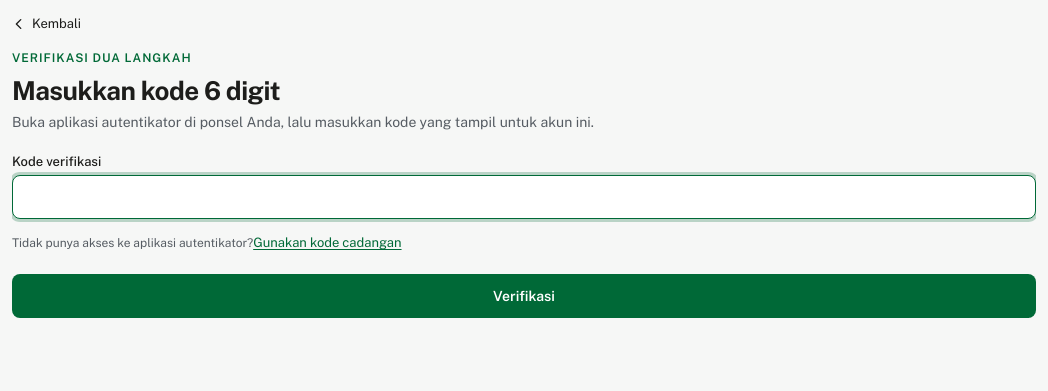
Test: LangkahKodeMfa › kode salah: pesan di atas form, kolom dikosongkan dan difokuskan
In the field with id "kode-mfa": coordinates (524, 197) top-left (12, 175), bottom-right (1036, 219), type "000000"
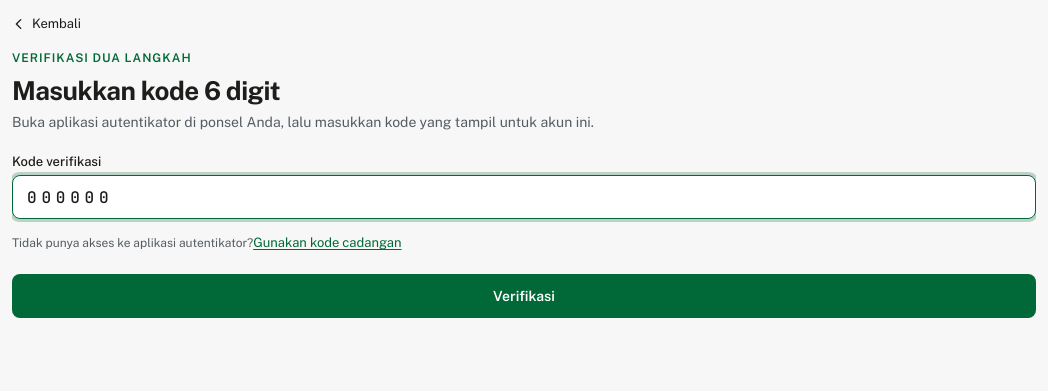
Submit the form, box top-left (12, 154), bottom-right (1036, 318)
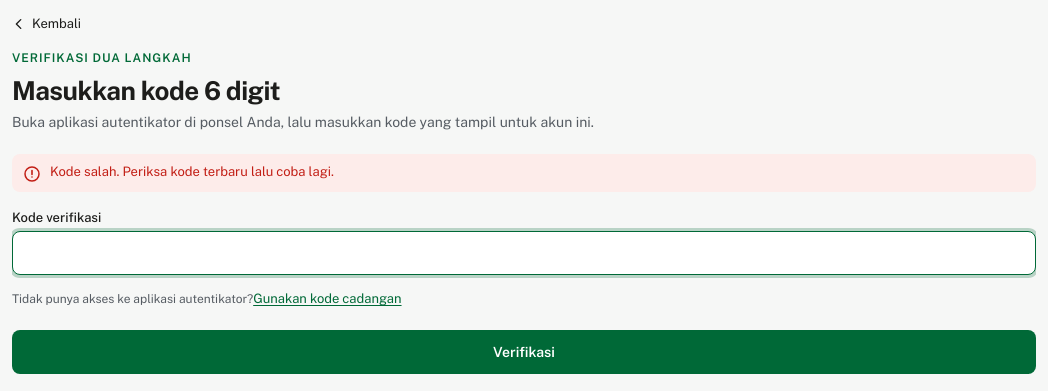
Now the message "Kode salah. Periksa kode terbaru lalu coba lagi." is shown, box top-left (12, 154), bottom-right (1036, 192)
Now the field with id "kode-mfa" is empty, box top-left (12, 231), bottom-right (1036, 275)
